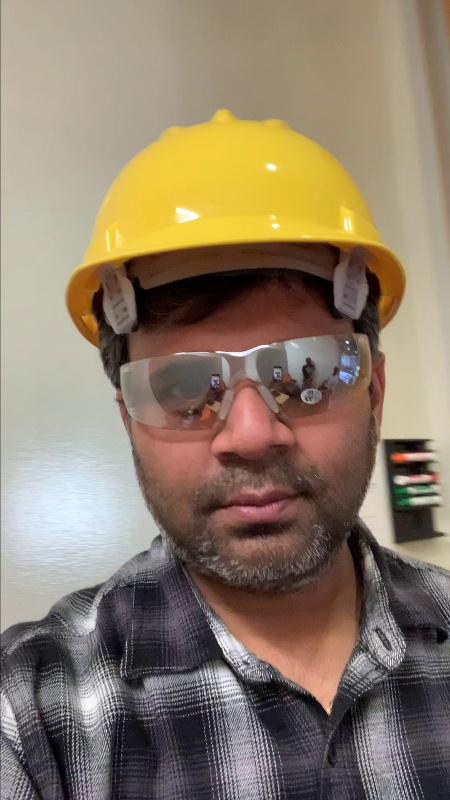glasses: (112, 340, 379, 423)
helmet: (70, 104, 398, 261)
